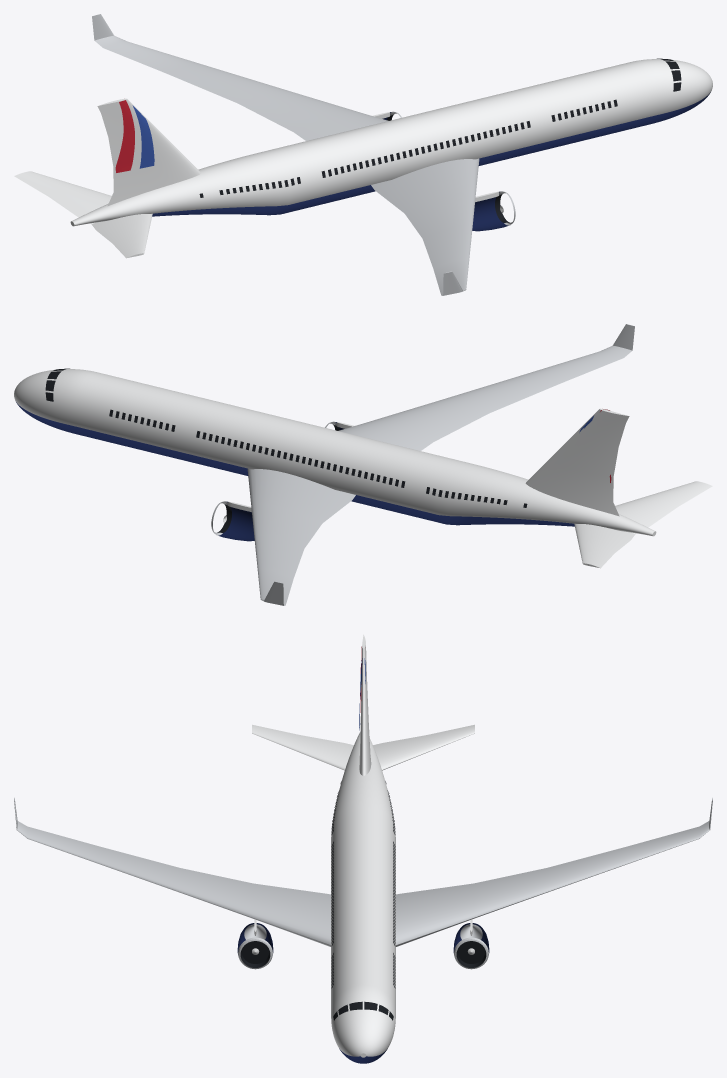
The picture shows the model from 3 angles, top to bottom: view 1: azimuth 30°, elevation 25°; view 2: azimuth 150°, elevation 25°; view 3: azimuth 270°, elevation 25°; orthographic projection.
Parts seen in each view (by area): view 1: Fuselage, Wings, Fin, Stabilisers, FinLivery, Engines; view 2: Fuselage, Wings, Fin, Stabilisers, Engines; view 3: Fuselage, Wings, Stabilisers, Engines, Fin.
Part boxes in pixels (left/top/right/bottom): Fuselage: left=70, top=58, right=712, bottom=226; Wings: left=92, top=14, right=479, bottom=295; Fin: left=97, top=98, right=200, bottom=206; Stabilisers: left=14, top=171, right=152, bottom=258; FinLivery: left=115, top=100, right=154, bottom=172; Engines: left=372, top=111, right=515, bottom=231; Fuselage: left=14, top=368, right=656, bottom=536; Wings: left=247, top=324, right=634, bottom=605; Fin: left=525, top=408, right=629, bottom=516; Stabilisers: left=574, top=481, right=712, bottom=568; Engines: left=211, top=421, right=354, bottom=541; Fuselage: left=331, top=732, right=395, bottom=1063; Wings: left=14, top=797, right=712, bottom=946; Stabilisers: left=252, top=724, right=474, bottom=770; Engines: left=237, top=919, right=489, bottom=969; Fin: left=359, top=634, right=371, bottom=775.
Size of the model in its own units: 40.14 by 9.89 by 38.21.
